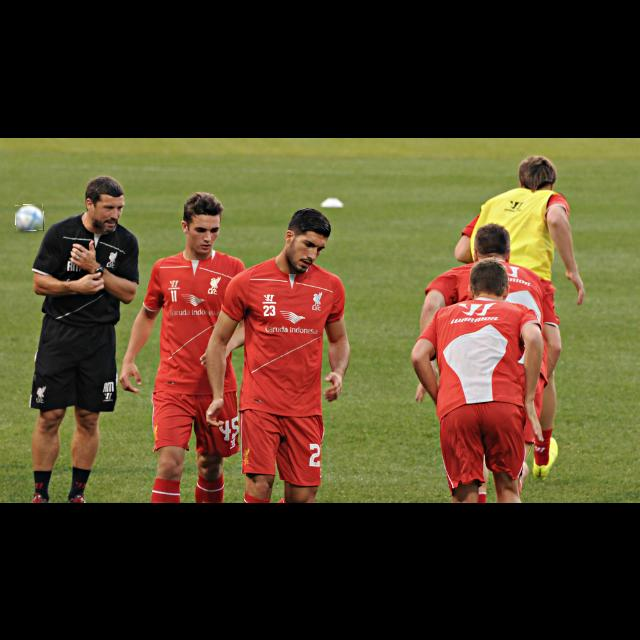Football: (16, 205, 44, 231)
